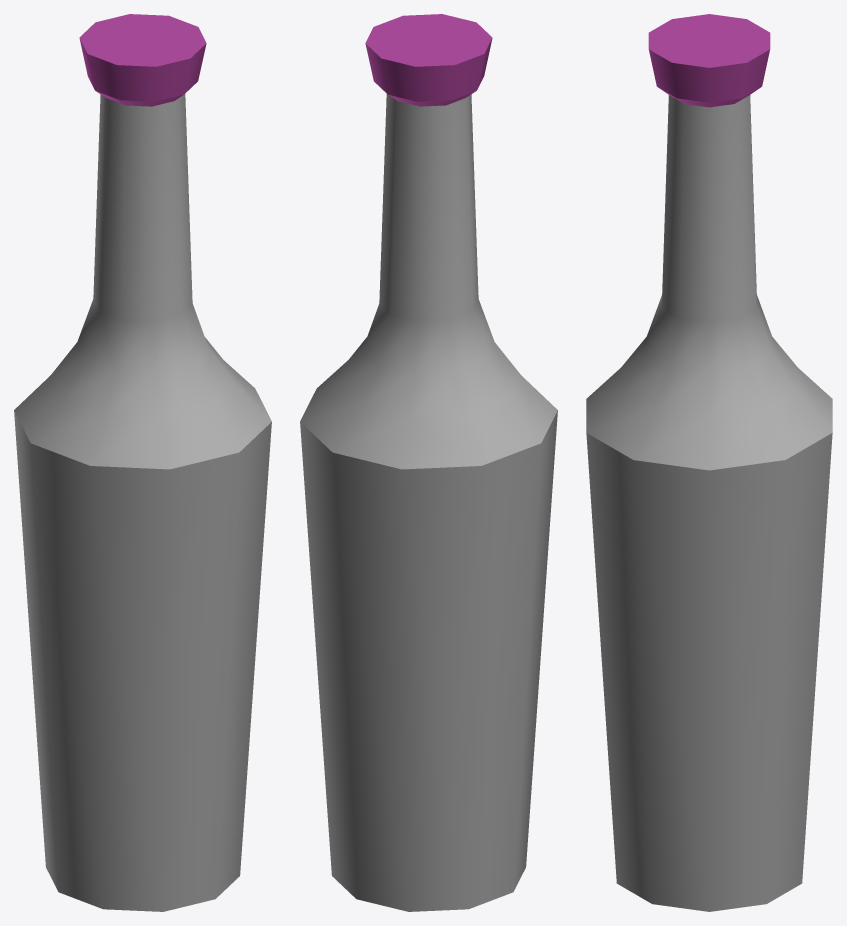
The model's file is Bottle_01.fbx.
The picture shows the model from 3 angles, left to right: view 1: azimuth 30°, elevation 25°; view 2: azimuth 150°, elevation 25°; view 3: azimuth 270°, elevation 25°; orthographic projection.
Visible parts, largest first — view 1: pCylinder7; view 2: pCylinder7; view 3: pCylinder7.
Boxes of the visible parts, x1,y1,x2,y2 form: pCylinder7: (14,14,271,911); pCylinder7: (300,14,557,911); pCylinder7: (586,14,832,911).
Bounding box in the file's own units: 233 × 824 × 222.
